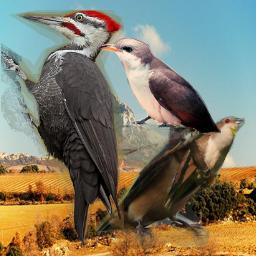Cuckoo: (98, 38, 221, 134), (160, 116, 245, 215)
Swallow: (96, 109, 219, 249)
Woodpecker: (1, 10, 124, 251)
